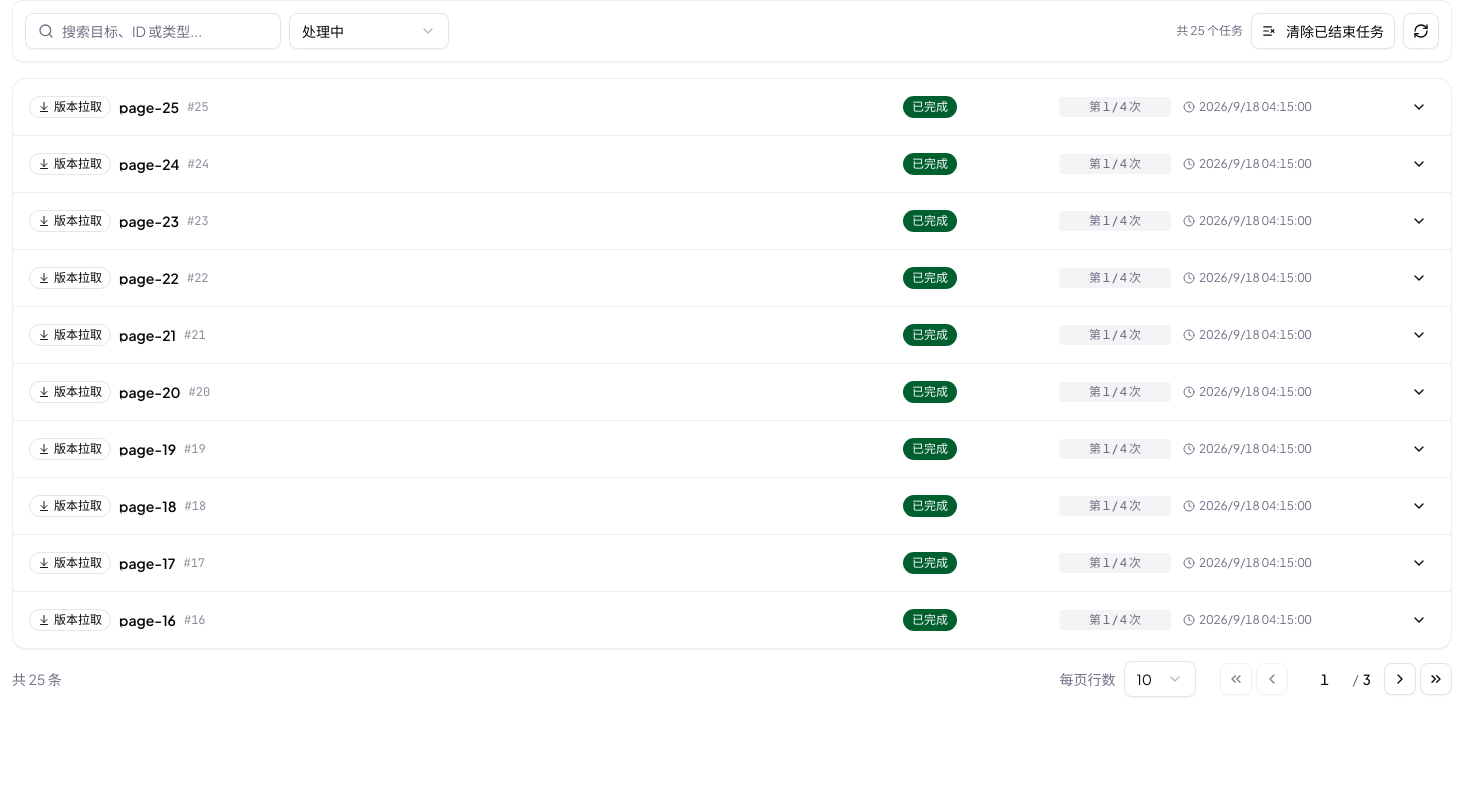
Test: persistent task queue › pages through the server total without clearing or changing queue entries
Expected: the text "page-25" is shown, [119,97,179,117]
What coordinates should you click on to do the following:
click the 5th button named "前往最后一页"
I would click on:
 (1436, 679)
Its box is [1420,663,1452,695].
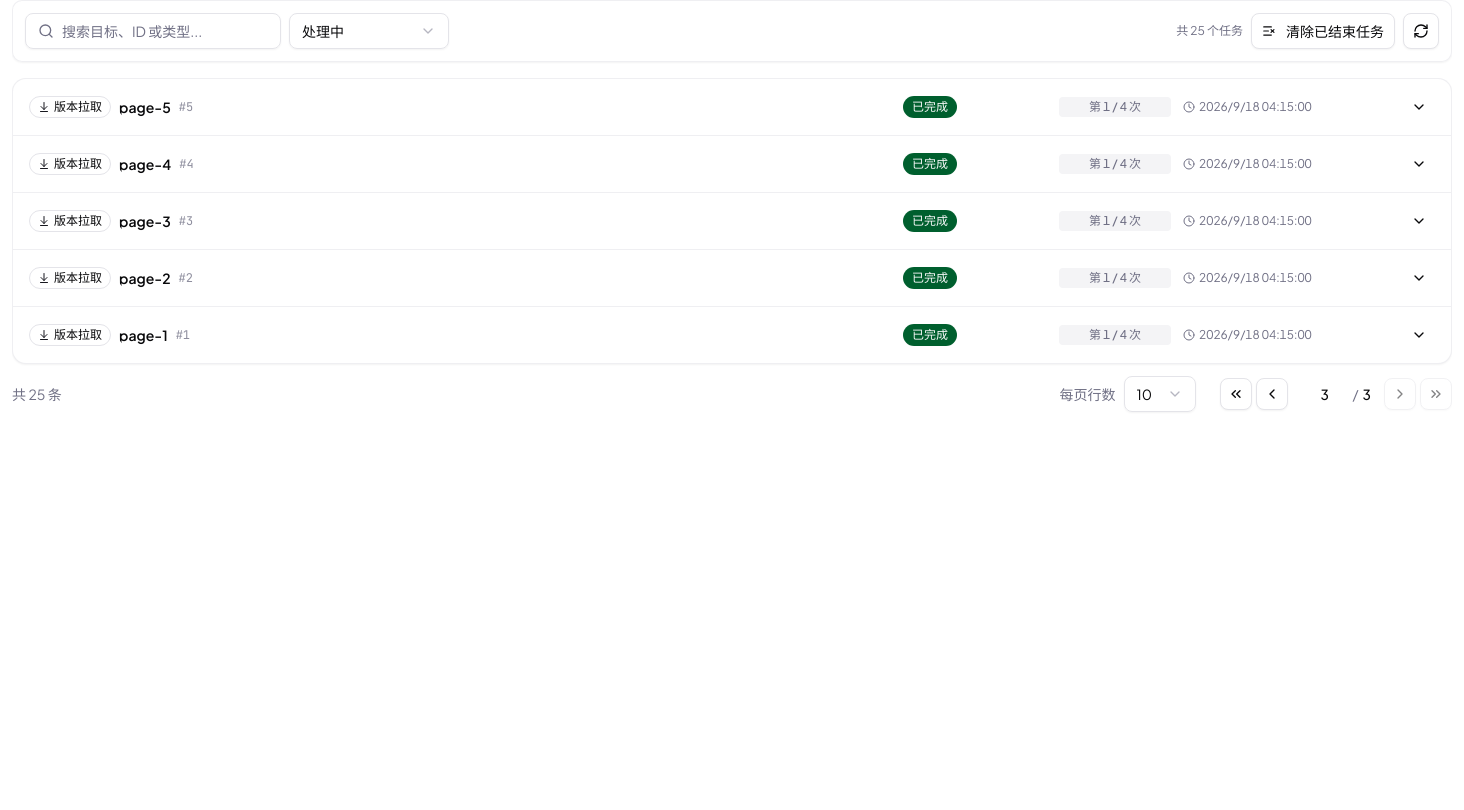
Expected: the 4th button named "前往下一页" is disabled, [1384,378,1416,410]
Result: the text "page-5" is shown at [119,97,171,117]
What coordinates should you click on to do the following:
click the 3rd button named "前往上一页"
I would click on:
 (1272, 394)
Its box is [1256,378,1288,410].
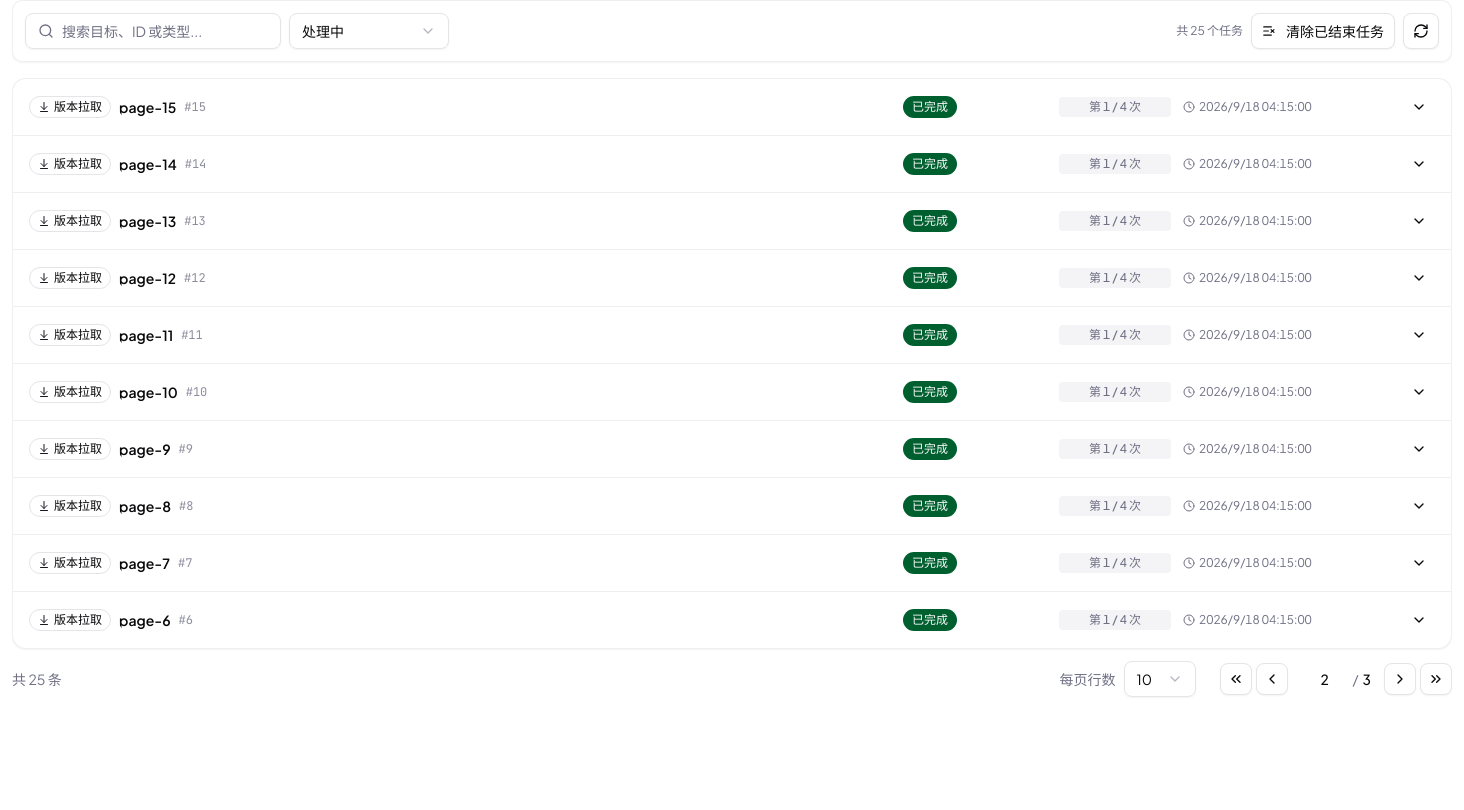
Result: the text "page-15" is shown at [119,97,176,117]
